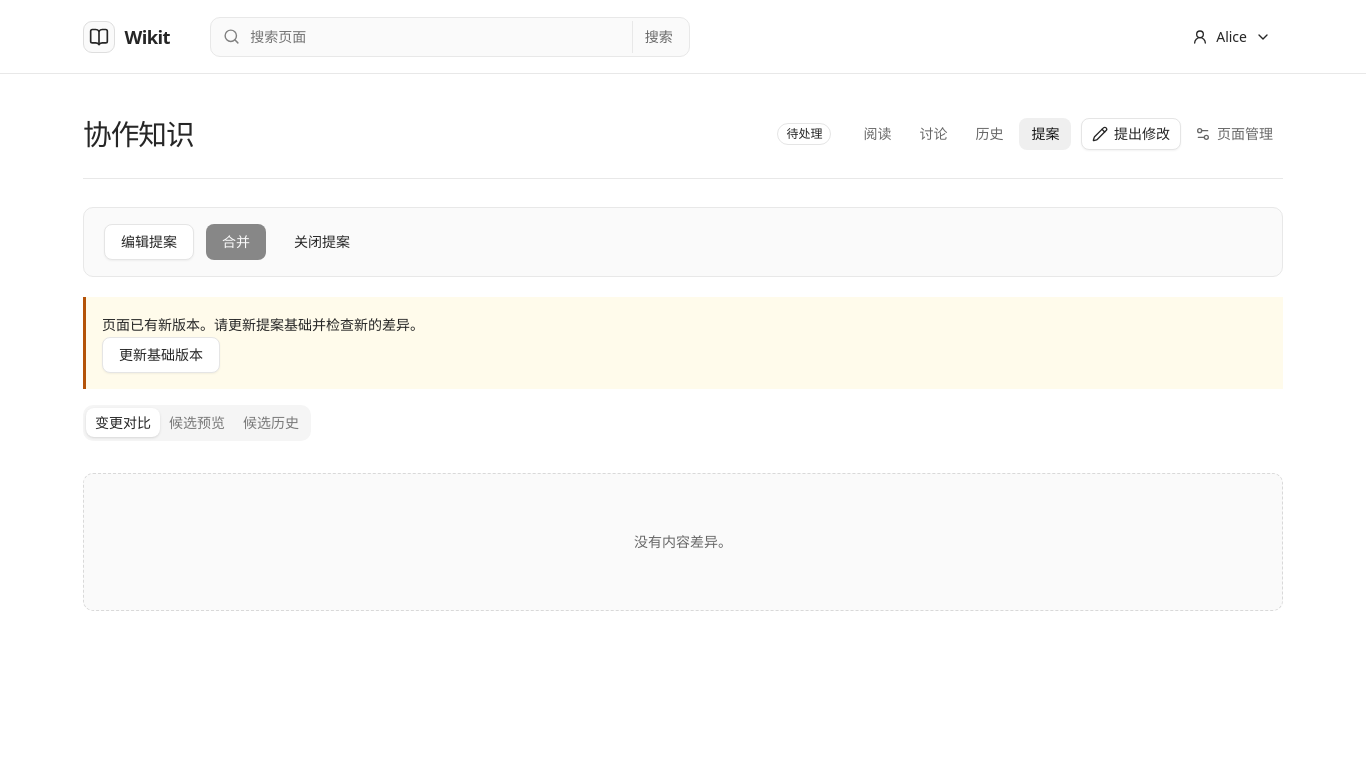
labels rebase conflict sides according to the Core contract
Click the button "更新基础版本": coordinates (161, 355) left=102, top=337, right=220, bottom=373
(page scrolled)
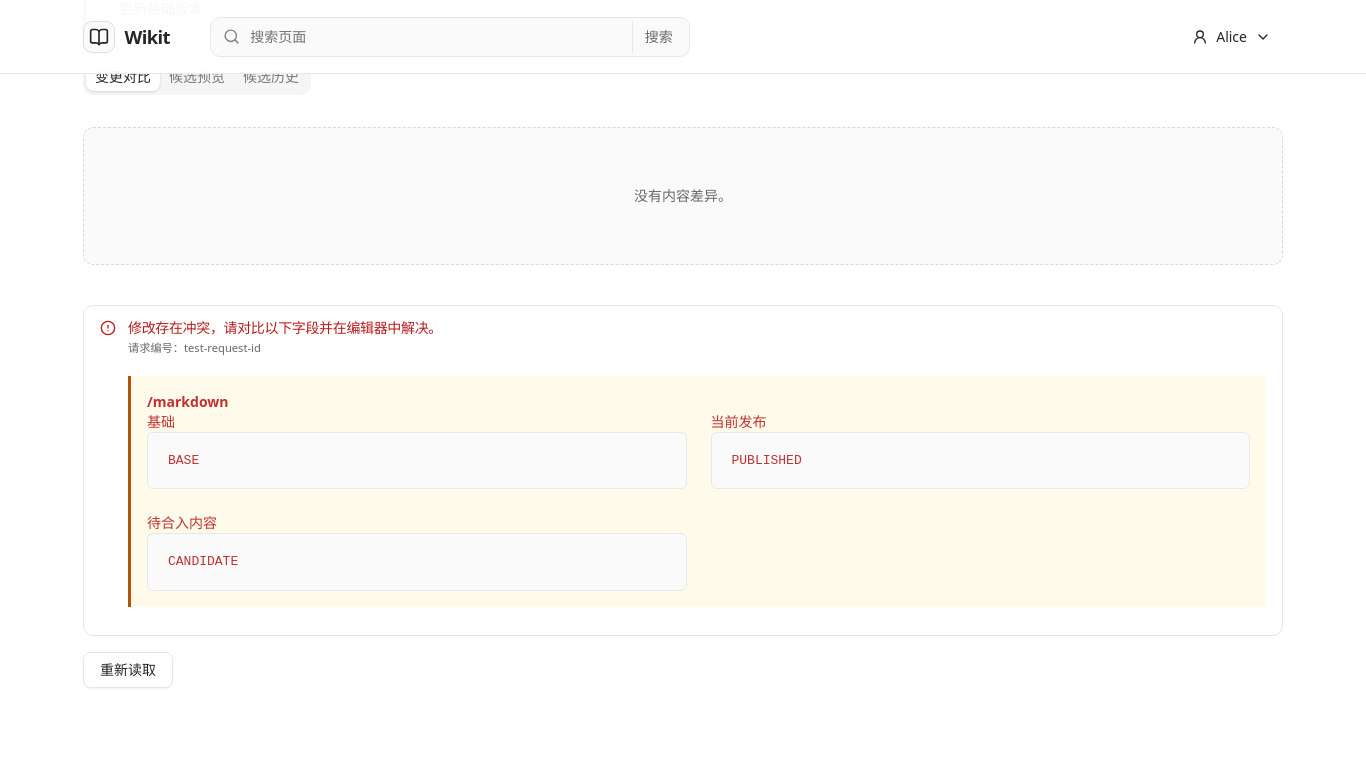
Now the text "PUBLISHED" is shown, box left=710, top=432, right=1250, bottom=489
Now the text "CANDIDATE" is shown, box left=147, top=533, right=686, bottom=590
